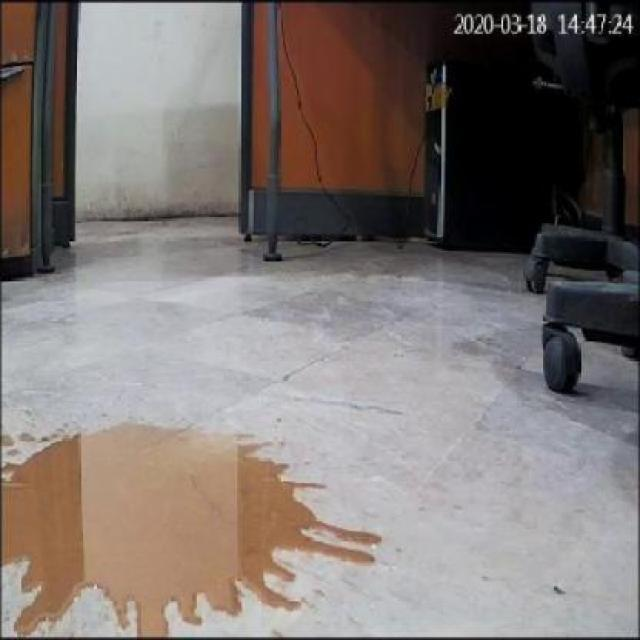spillage: (4, 424, 382, 637)
